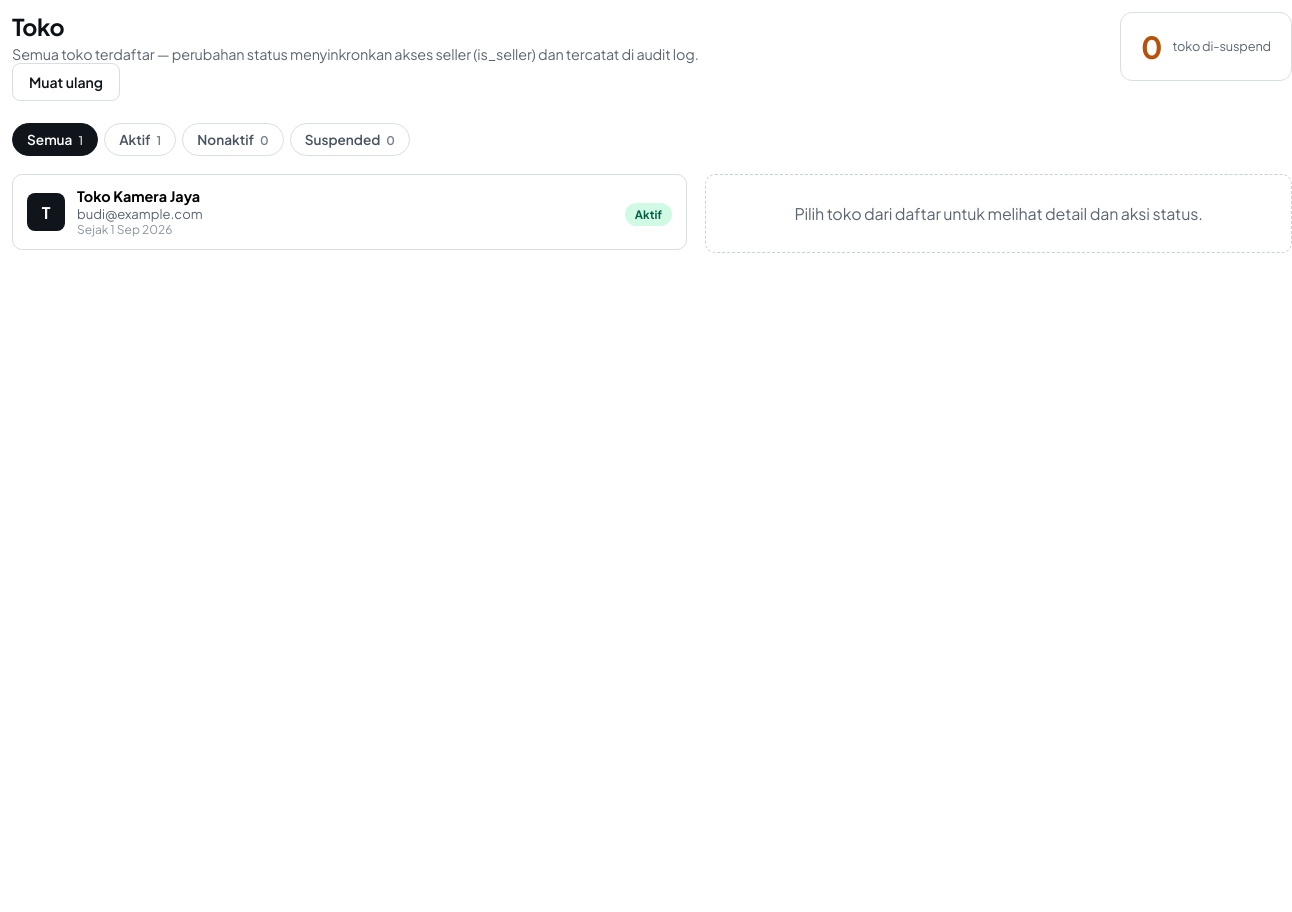
Test: AdminStores › perubahan status memakai label terbaca dan satu RPC
Click the text "Toko Kamera Jaya" at coordinates (140, 196), box [77,187,203,205]
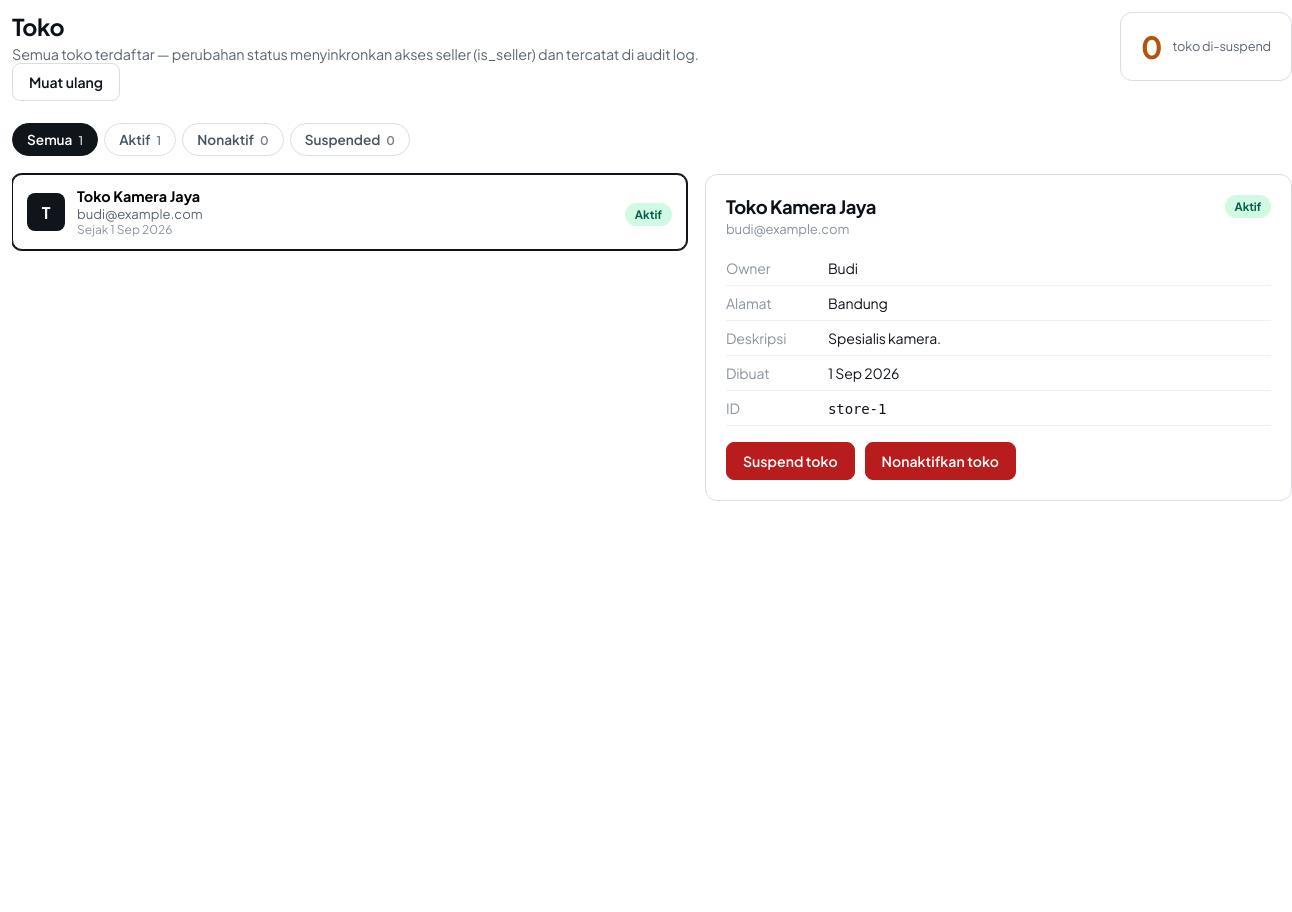
Click the button "Suspend toko" at coordinates (790, 461), box [726,442,855,480]
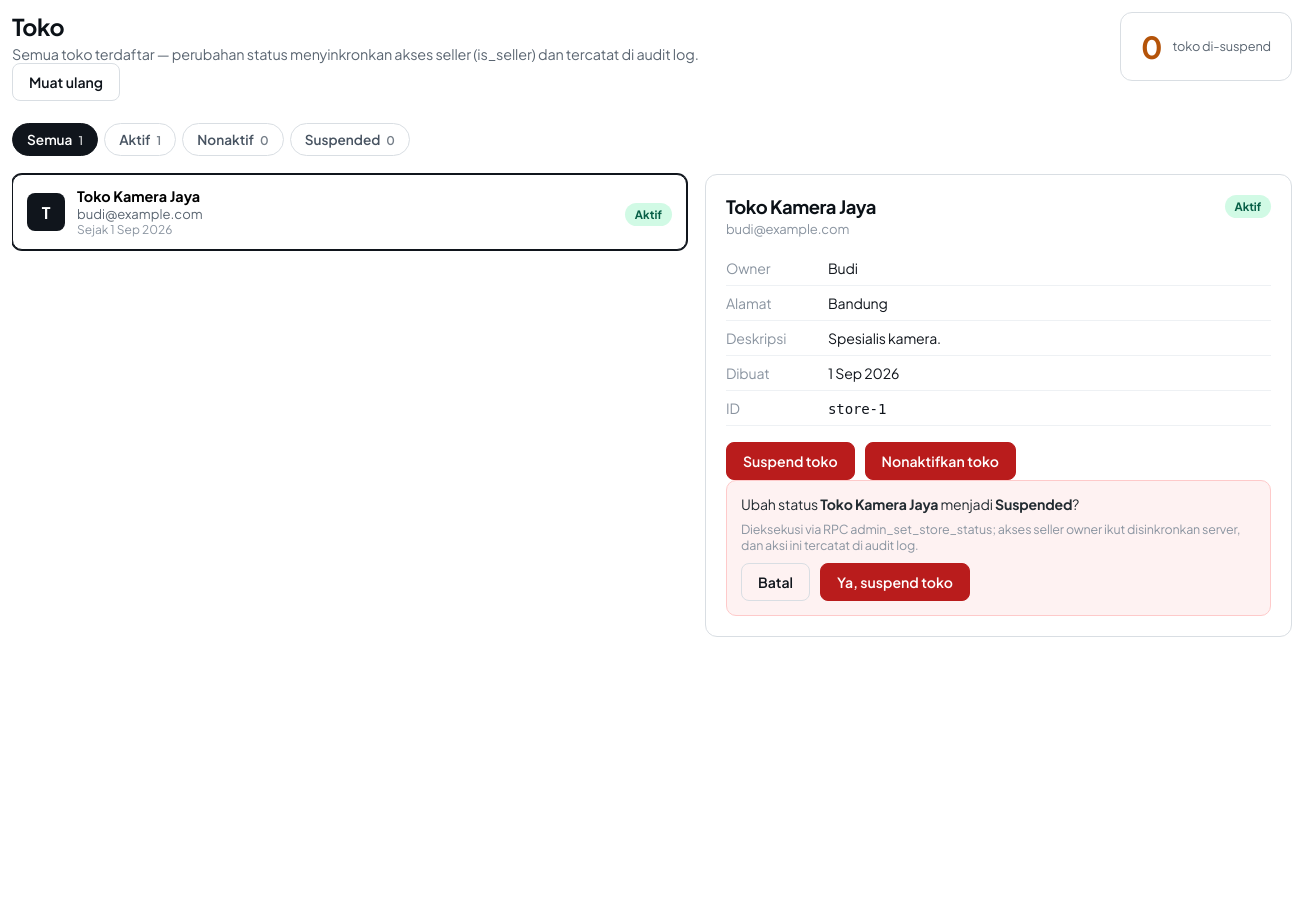
Click the button "Ya, suspend toko" at coordinates (895, 582), box [820,563,970,601]
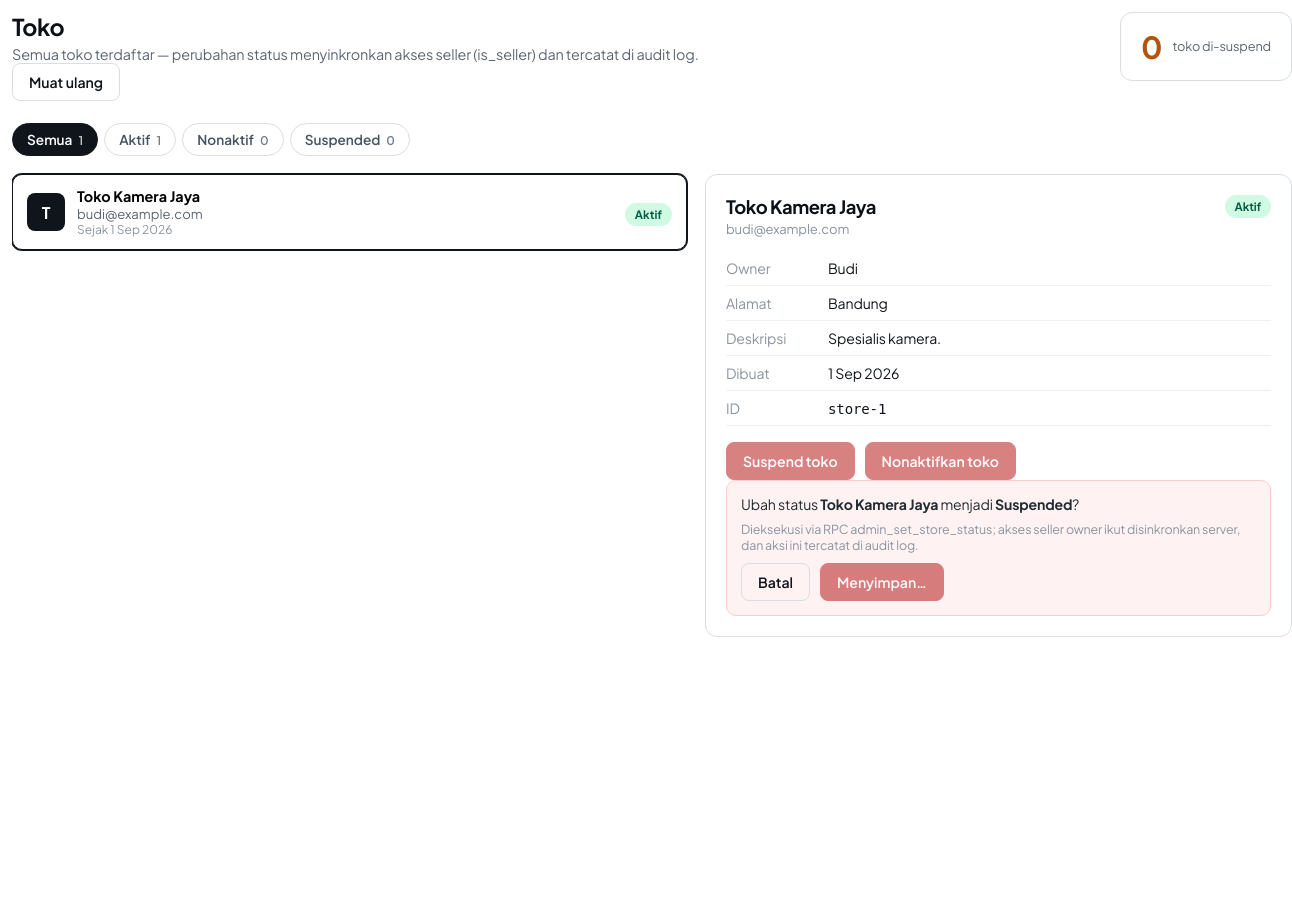
Click the button named "Ya, suspend toko" at coordinates (882, 582), box [820,563,944,601]
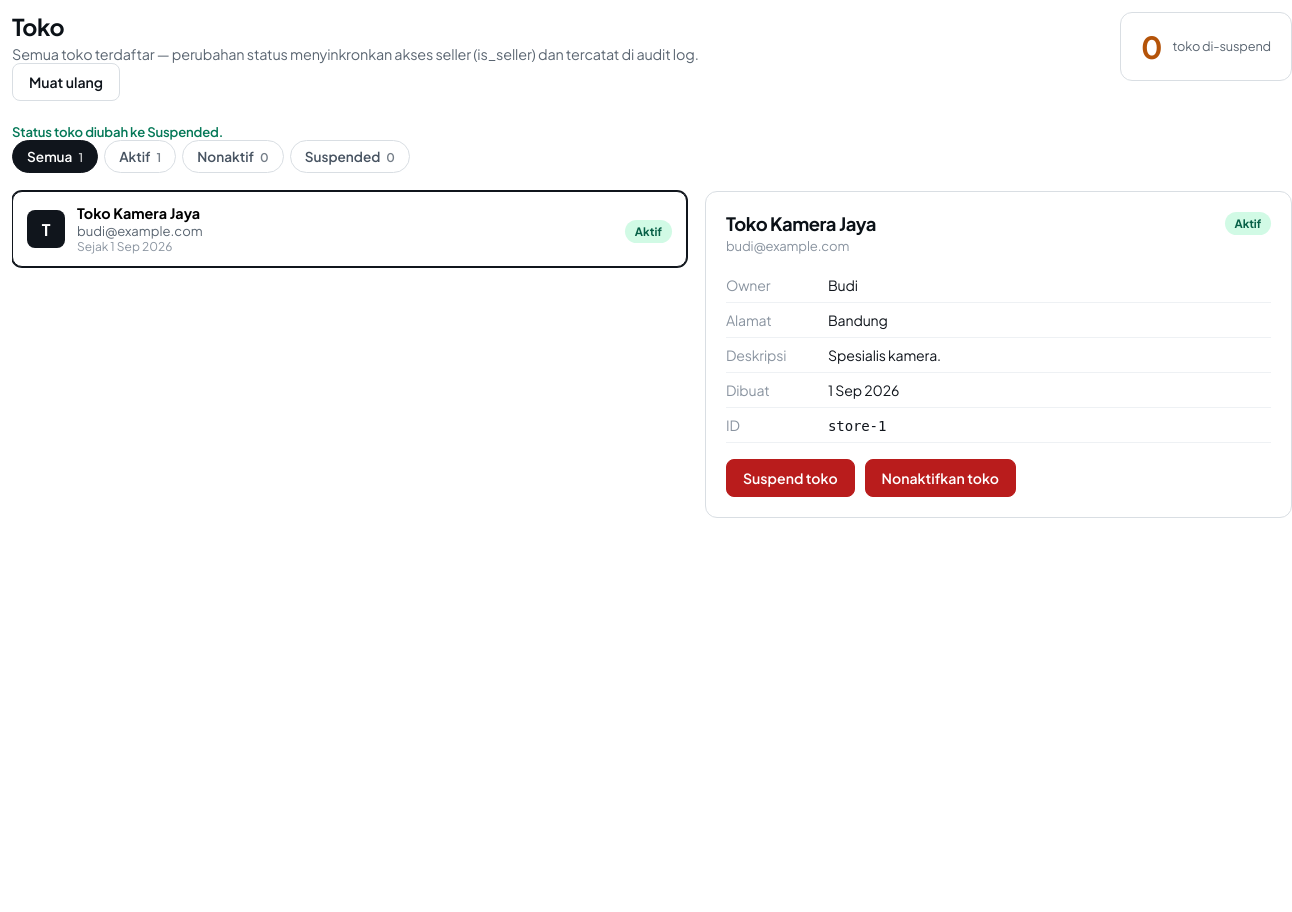
Result: the text "Status toko diubah ke Suspended." is shown at [12,123,223,140]
